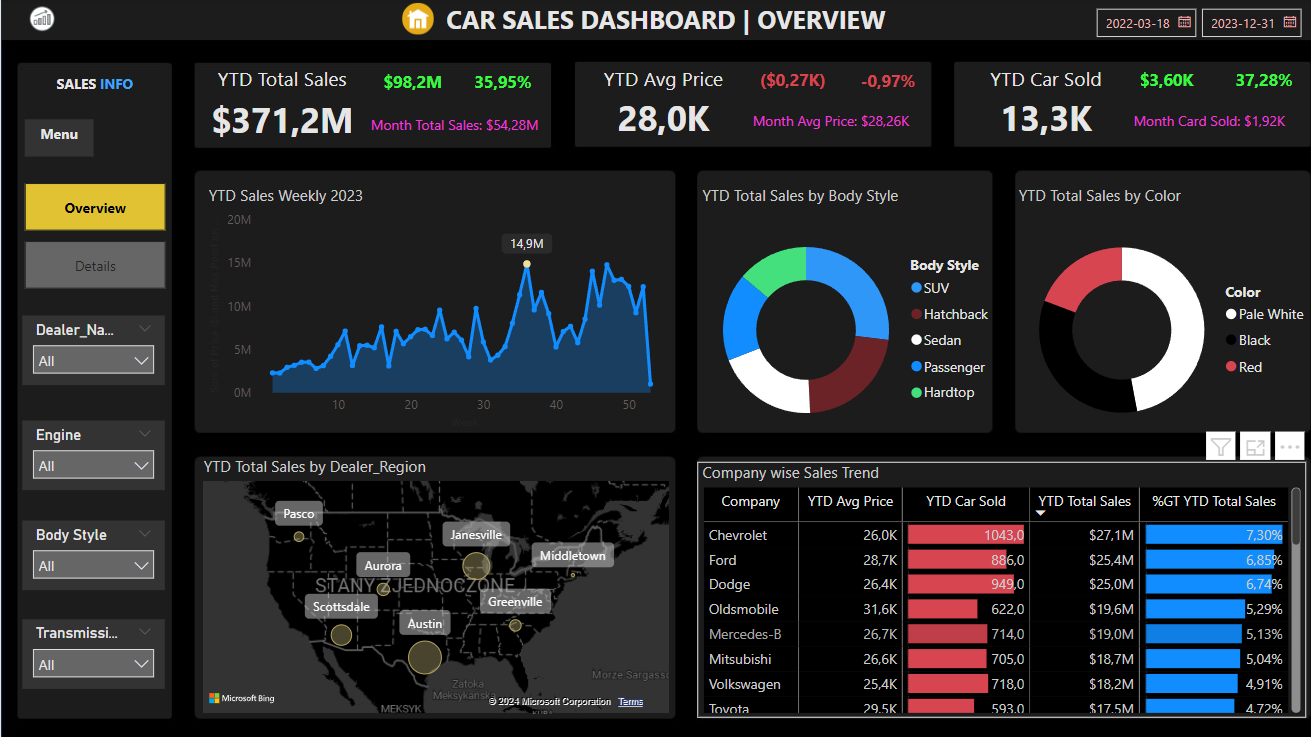

What the dashboard file says about the page in this screenshot:
{"tool":"powerbi","page":{"name":"Overview","canvas":[1280,720],"ordinal":0},"visuals":[{"type":"card","title":"YTD Total Sales","fields":{"Values":["car_data.YTD Total Sales"]},"box":[185.8,65.1,171.3,80.8],"z":0},{"type":"card","fields":{"Values":["car_data.Sales difference"]},"box":[357.1,60.3,80.8,44.6],"z":1000},{"type":"card","fields":{"Values":["car_data.YoY Sales Growth"]},"box":[447.6,65.1,73.6,36.2],"z":2000},{"type":"card","fields":{"Values":["car_data.MTD KPI"]},"box":[346.2,103.8,183.4,42.2],"z":3000},{"type":"card","title":"YTD Avg Price","fields":{"Values":["car_data.YTD Avg Price"]},"box":[555,65.1,168.9,77.2],"z":4000},{"type":"card","fields":{"Values":["car_data.AVG Price Diff"]},"box":[723.9,59.1,80.8,44.6],"z":5000},{"type":"card","fields":{"Values":["car_data.YoY Avg Price Growth"]},"box":[819.2,63.9,73.6,36.2],"z":6000},{"type":"card","fields":{"Values":["car_data.MTD Avg Price KPI"]},"box":[709.4,100.1,183.4,42.2],"z":7000},{"type":"card","title":"YTD Car Sold","fields":{"Values":["car_data.YTD Car Sold"]},"box":[924.1,65.1,168.9,77.2],"z":8000},{"type":"card","fields":{"Values":["car_data.Car Sold Diff"]},"box":[1084.6,59.1,80.8,44.6],"z":9000},{"type":"card","fields":{"Values":["car_data.YoY Car Sold Growth"]},"box":[1178.7,59.1,80.8,44.6],"z":10000},{"type":"areaChart","title":"YTD Sales Weekly 2023","fields":{"Category":["Calendar Dates.Week"],"Y":["Sum(car_data.Price ($))","car_data.Max Point on Area Chart"]},"box":[195.4,179.8,453.6,241.3],"z":11000},{"type":"donutChart","fields":{"Y":["car_data.YTD Total Sales"],"Category":["car_data.Body Style"]},"box":[672,179.8,294.4,261.8],"z":12000},{"type":"donutChart","fields":{"Y":["car_data.YTD Total Sales"],"Category":["car_data.Color"]},"box":[977.2,179.8,294.4,261.8],"z":13000},{"type":"map","fields":{"Category":["car_data.Dealer_Region"],"Size":["car_data.YTD Total Sales"]},"box":[190.6,441.2,458.8,253.8],"z":14000},{"type":"tableEx","title":"Company wise Sales Trend","fields":{"Values":["car_data.Company","car_data.YTD Avg Price","car_data.YTD Car Sold","car_data.YTD Total Sales1","car_data.YTD Total Sales"]},"box":[672.5,447.5,587.5,247.5],"z":15000},{"type":"textbox","box":[425,0,493.8,52.5],"z":16000},{"type":"slicer","fields":{"Values":["car_data.Body Style"]},"box":[20.5,504.3,137.5,67.6],"z":17000},{"type":"slicer","fields":{"Values":["car_data.Dealer_Name"]},"box":[20.5,306.4,137.5,67.6],"z":18000},{"type":"slicer","fields":{"Values":["car_data.Transmission"]},"box":[20.5,599.6,137.5,67.6],"z":19000},{"type":"slicer","fields":{"Values":["car_data.Engine"]},"box":[20.5,407.8,137.5,67.6],"z":20000},{"type":"card","fields":{"Values":["car_data.MTD Car Sold KPI"]},"box":[1075,100,182.5,42.5],"z":21000},{"type":"textbox","box":[22.7,116.7,66.2,36.2],"z":22000},{"type":"pageNavigator","box":[22.7,178,136.2,102.5],"z":23000},{"type":"textbox","box":[22.5,68.8,135,36.2],"z":24000},{"type":"slicer","fields":{"Values":["car_data.Date"]},"box":[1045,0,226.2,40],"z":25000},{"type":"image","box":[22.5,0,33.8,40],"z":26000},{"type":"image","box":[382.5,0,40,40],"z":27000}]}

Visuals, with their boxes on the page's 1280x720 design canvas (x1, y1, x2, y2). These are canvas units, not pixel positions in the 1311x737 screenshot, which may show the page scaled, cropped or inside an application window:
"YTD Total Sales" card: locate(186, 65, 357, 146)
card - car_data.Sales difference: locate(357, 60, 438, 105)
card - car_data.YoY Sales Growth: locate(448, 65, 521, 101)
card - car_data.MTD KPI: locate(346, 104, 530, 146)
"YTD Avg Price" card: locate(555, 65, 724, 142)
card - car_data.AVG Price Diff: locate(724, 59, 805, 104)
card - car_data.YoY Avg Price Growth: locate(819, 64, 893, 100)
card - car_data.MTD Avg Price KPI: locate(709, 100, 893, 142)
"YTD Car Sold" card: locate(924, 65, 1093, 142)
card - car_data.Car Sold Diff: locate(1085, 59, 1165, 104)
card - car_data.YoY Car Sold Growth: locate(1179, 59, 1260, 104)
"YTD Sales Weekly 2023" areaChart: locate(195, 180, 649, 421)
donutChart - car_data.YTD Total Sales x car_data.Body Style: locate(672, 180, 966, 442)
donutChart - car_data.YTD Total Sales x car_data.Color: locate(977, 180, 1272, 442)
map - car_data.Dealer_Region x car_data.YTD Total Sales: locate(191, 441, 649, 695)
"Company wise Sales Trend" tableEx: locate(672, 448, 1260, 695)
textbox: locate(425, 0, 919, 52)
slicer - car_data.Body Style: locate(20, 504, 158, 572)
slicer - car_data.Dealer_Name: locate(20, 306, 158, 374)
slicer - car_data.Transmission: locate(20, 600, 158, 667)
slicer - car_data.Engine: locate(20, 408, 158, 475)
card - car_data.MTD Car Sold KPI: locate(1075, 100, 1258, 142)
textbox: locate(23, 117, 89, 153)
pageNavigator: locate(23, 178, 159, 280)
textbox: locate(22, 69, 158, 105)
slicer - car_data.Date: locate(1045, 0, 1271, 40)
image: locate(22, 0, 56, 40)
image: locate(382, 0, 422, 40)
